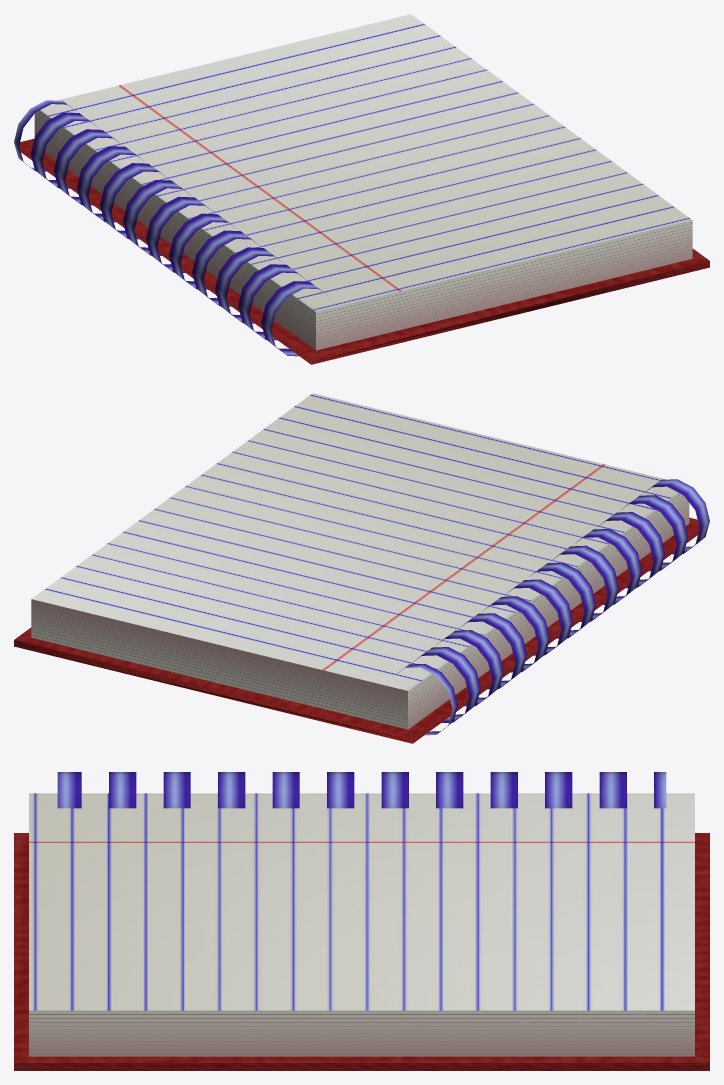
The model's file is notebook.fbx.
3 views of the same model, one above another, from view 1: azimuth 30°, elevation 25°; view 2: azimuth 150°, elevation 25°; view 3: azimuth 270°, elevation 25° (orthographic). The views are drawn at different scales.
Parts seen in each view (by area): view 1: Notebook; view 2: Notebook; view 3: Notebook.
Part boxes in pixels (box(x1,y1,x2,y2)): Notebook: box(14, 14, 709, 364); Notebook: box(14, 393, 709, 743); Notebook: box(14, 772, 709, 1070).
Bounding box in the file's own units: 9.48 × 1.46 × 11.5.
1 material, 1 textured.
